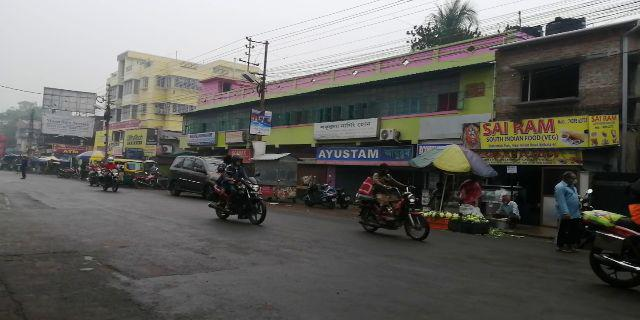Motorbike: (349, 160, 431, 243), (208, 150, 268, 225)
